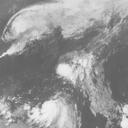cyclone: (57, 54, 96, 87), (38, 96, 71, 125)
